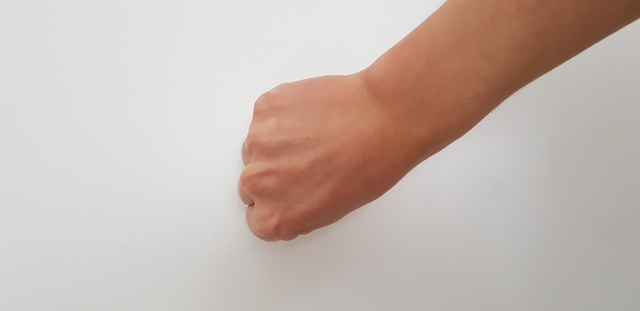Rock: (215, 59, 462, 254)
